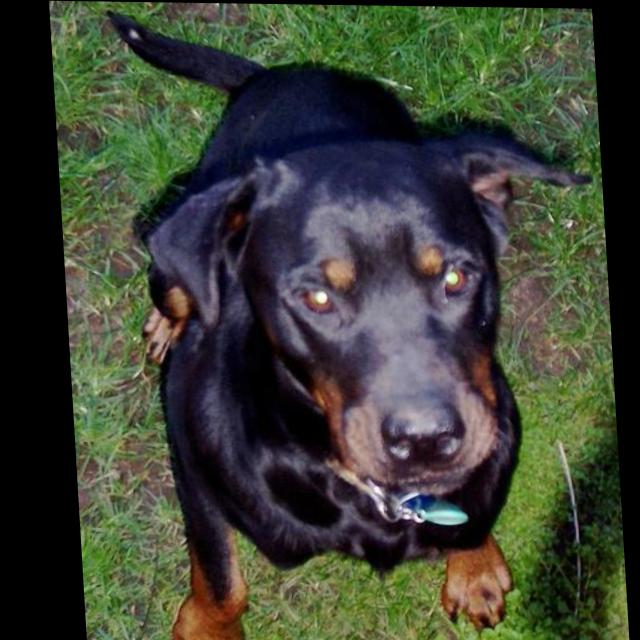rottweiler: (104, 9, 612, 640)
